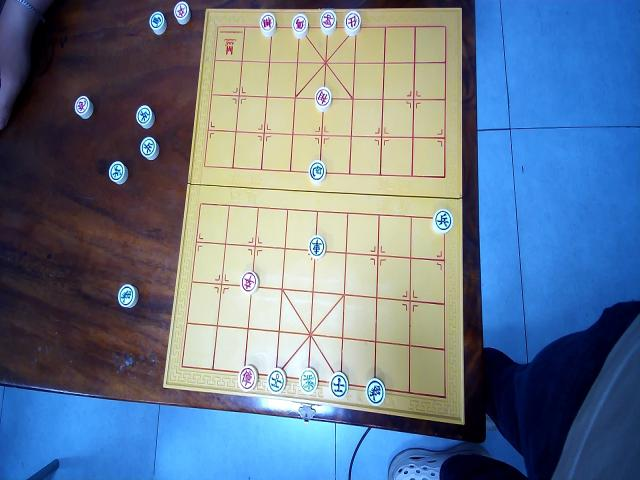piece: (329, 370, 349, 399), (365, 377, 385, 405), (432, 208, 453, 234), (238, 364, 258, 391), (118, 283, 138, 309), (299, 367, 318, 394), (107, 160, 127, 185), (267, 367, 285, 394), (139, 136, 158, 161), (135, 103, 154, 128), (74, 95, 93, 119), (314, 85, 332, 110), (173, 0, 191, 25), (308, 233, 326, 258), (344, 10, 361, 36), (259, 10, 276, 36), (240, 270, 258, 294), (148, 11, 166, 35), (308, 159, 325, 184), (320, 9, 336, 34), (292, 13, 308, 38)
